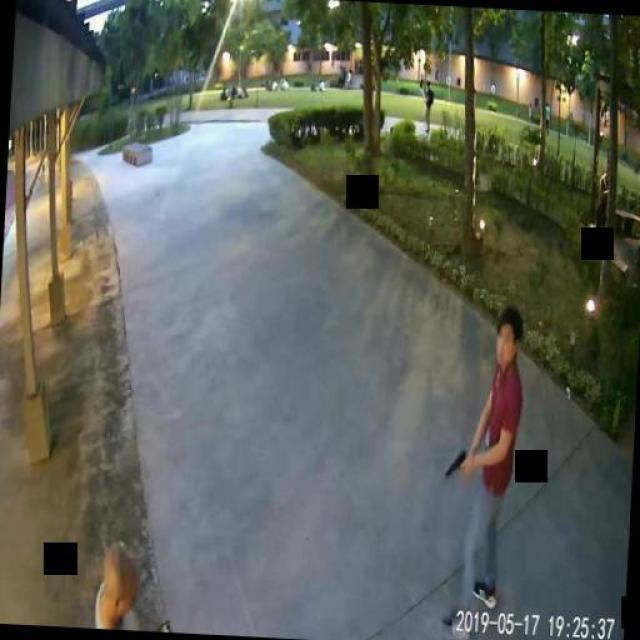gun: (444, 448, 470, 478)
